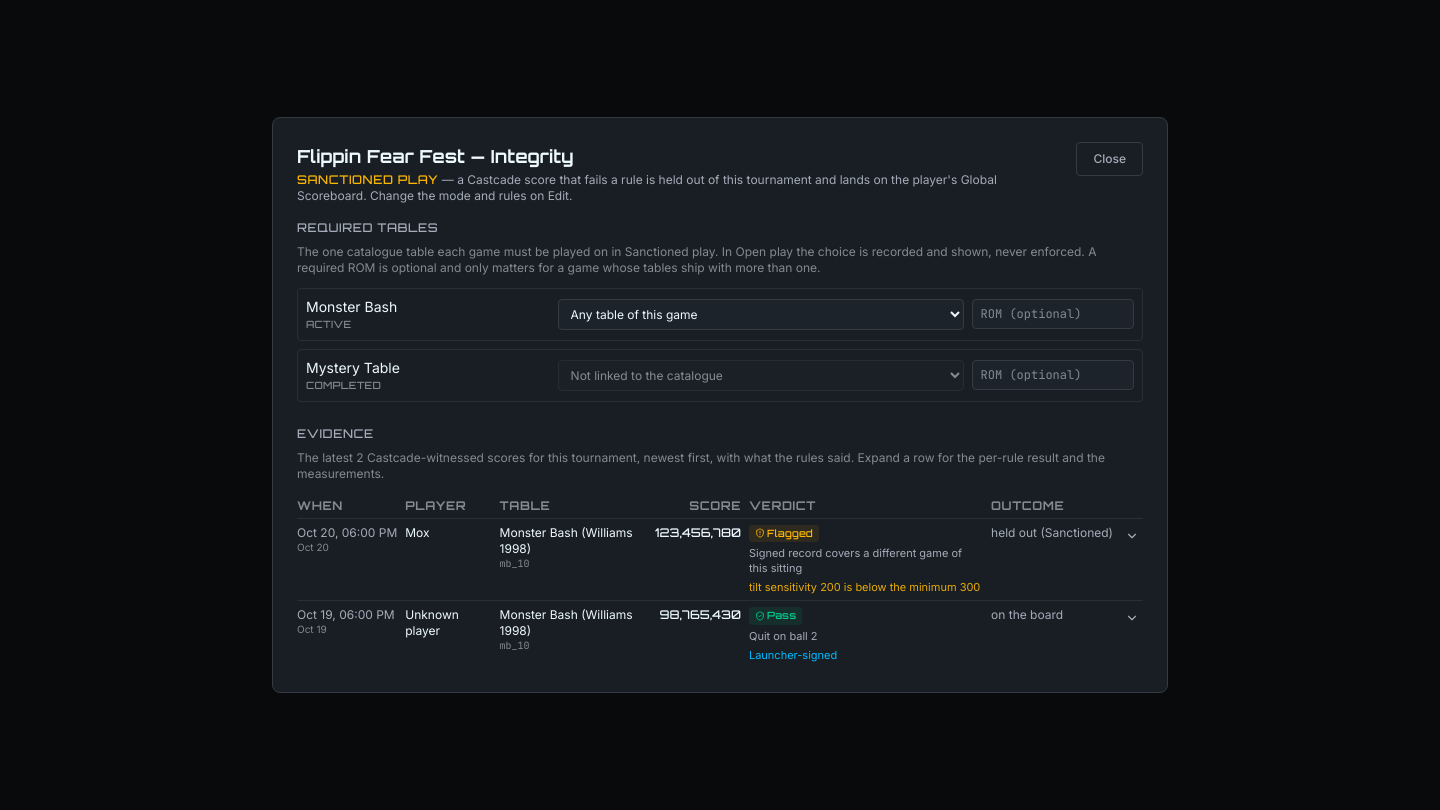
Test: IntegrityPanel › expanding an evidence row shows the rule checks and the measurements
The width and height of the screenshot is (1440, 810).
Click the button named "Show details" in the row of "Oct 20, 06:00 PM" at x=1132, y=536, box [1121,525,1143,547]
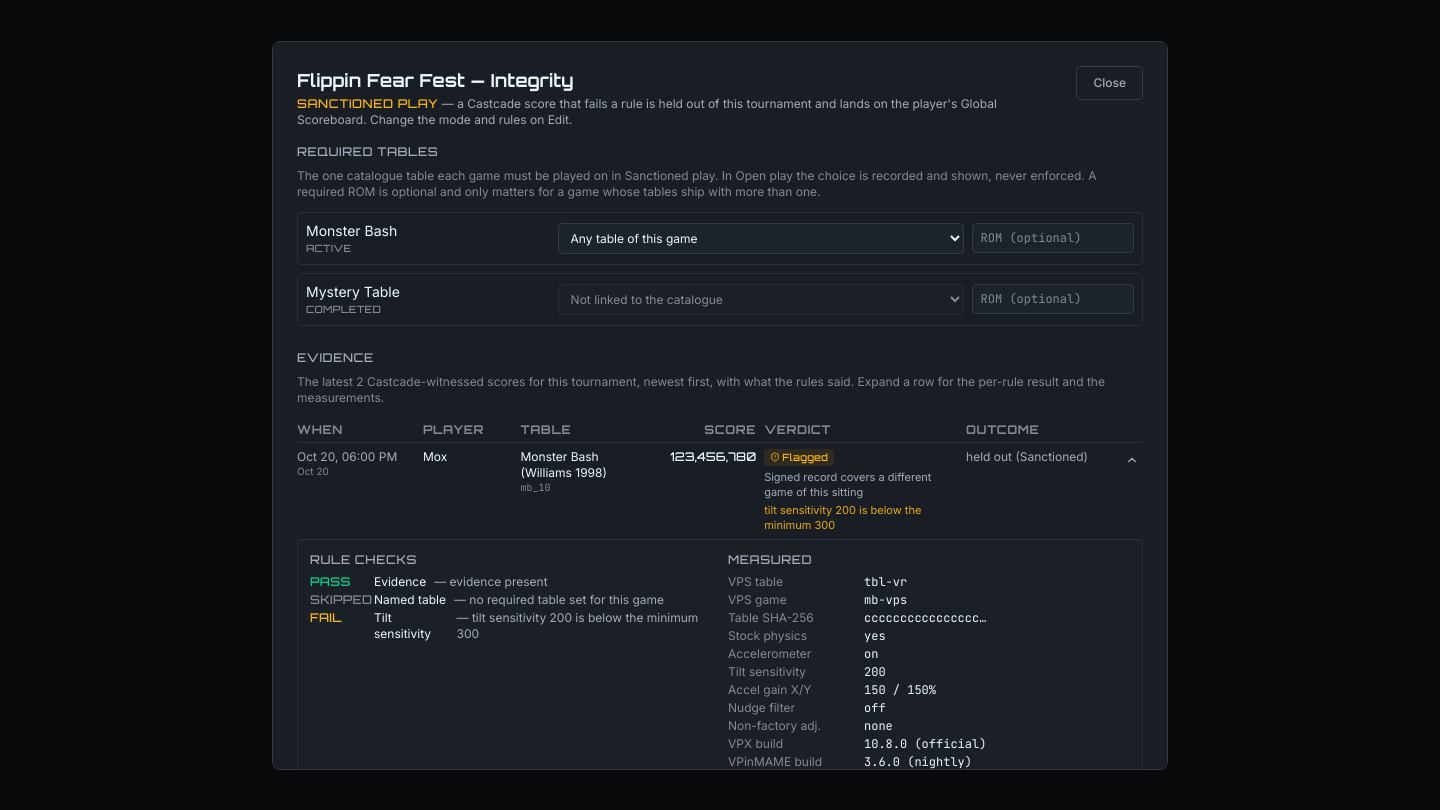
Now the text "Tilt sensitivity" is shown 2 times, box [374,610,431,641]; [728,664,806,679]
Now the text "200" is shown, box [864,664,886,680]
Now the text "150 / 150%" is shown, box [864,682,936,698]
Click the button named "Hide details" at x=1132, y=460, box [1121,448,1143,470]
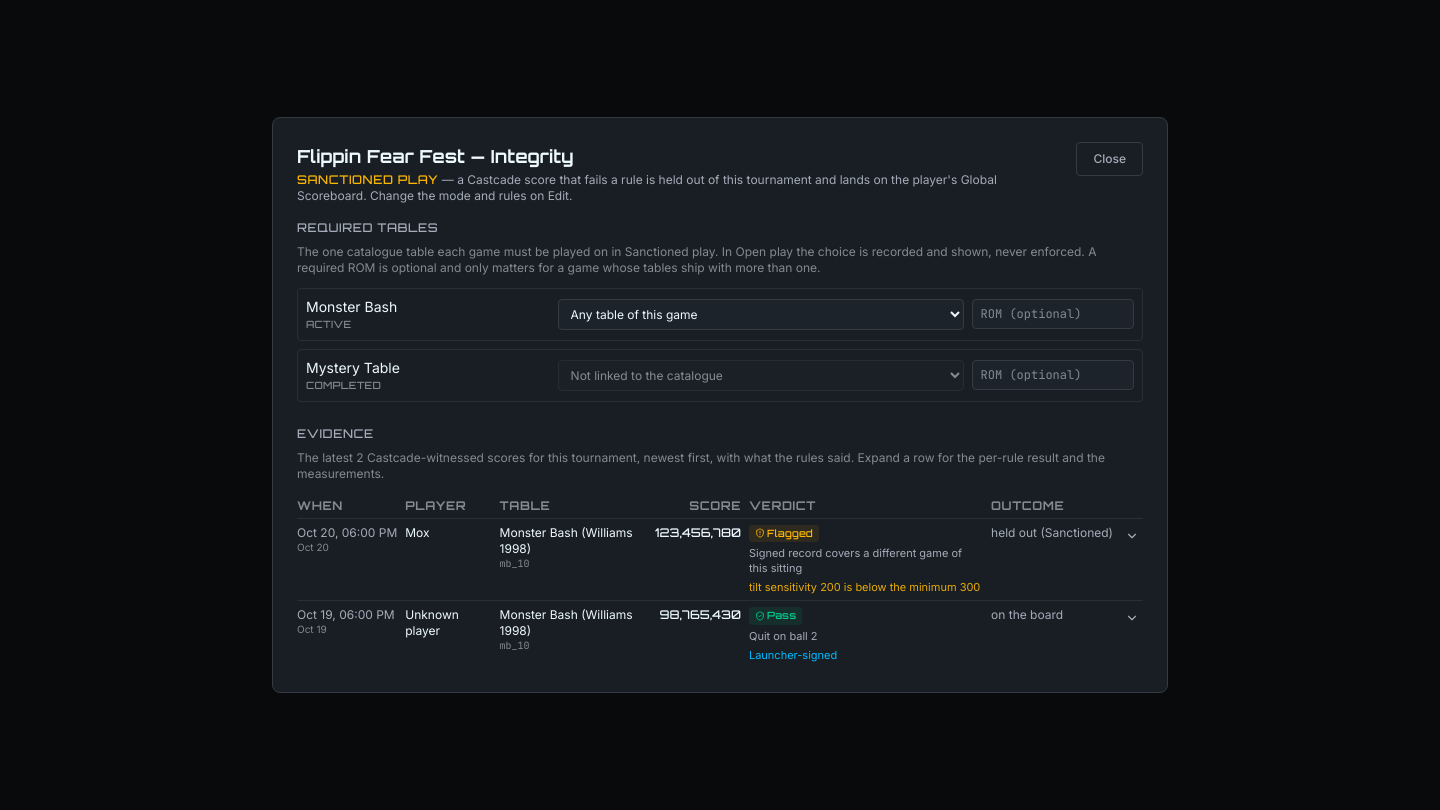
Now the text "10.8.0 (official)" is gone
